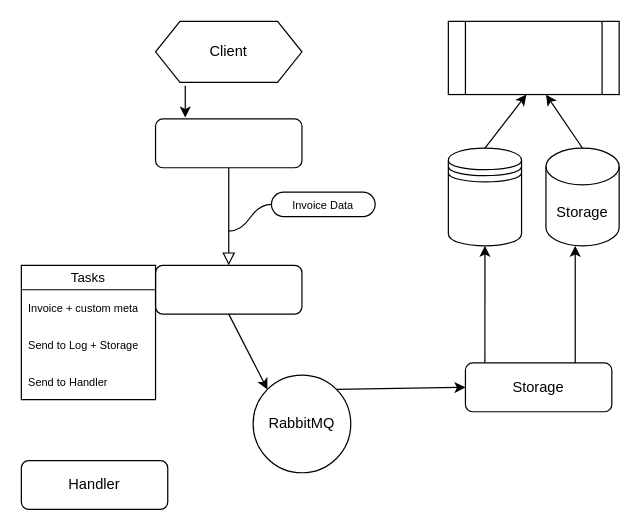
This 641x531 diagram has some shape labels left out. The shapes that lost their labels are listed below. From the top down, each one's box as (x1, y1, x2, y2) in pixels, then its label:
(447, 20, 619, 95): DashBoard
(154, 118, 302, 168): PSP
(447, 147, 522, 246): Log
(154, 264, 302, 314): Conceirge
